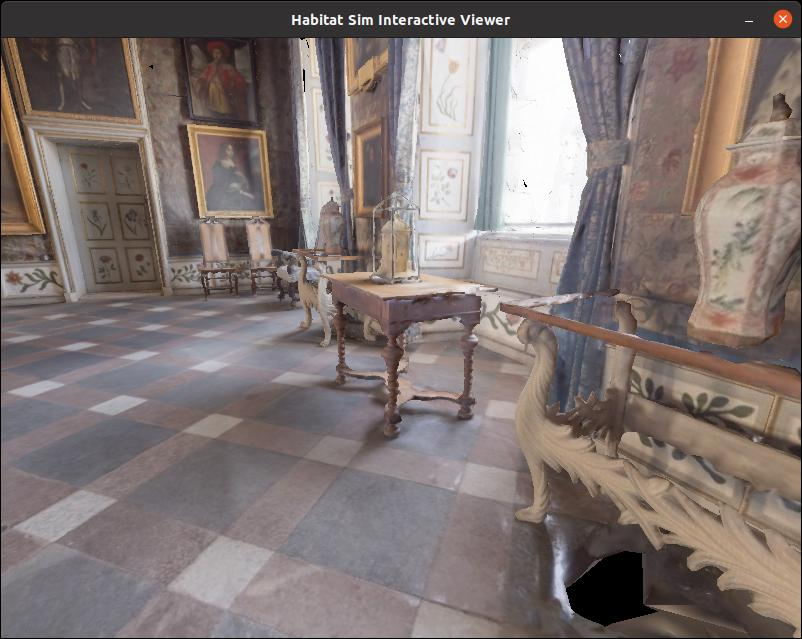door: (71, 145, 157, 298)
door-frame: (23, 127, 166, 314)
table: (497, 251, 802, 639), (315, 259, 501, 432)
